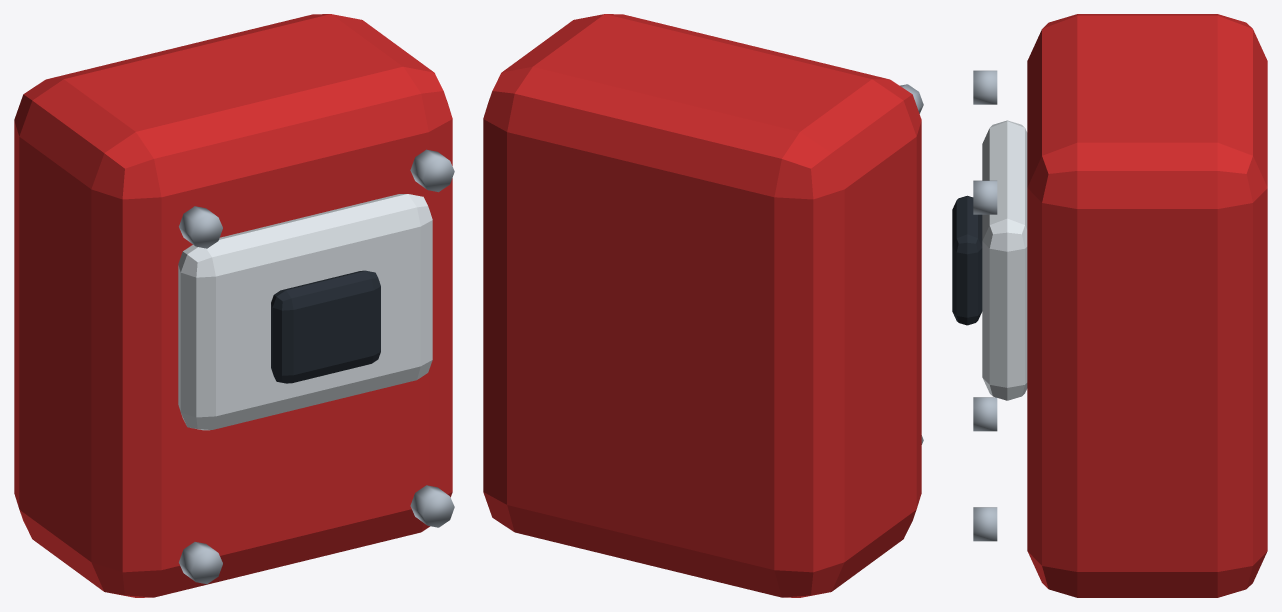
File: manual.glb
The picture shows the model from 3 angles, left to right: view 1: azimuth 30°, elevation 25°; view 2: azimuth 150°, elevation 25°; view 3: azimuth 270°, elevation 25°; orthographic projection. The views are drawn at different scales.
Parts seen in each view (by area): view 1: Manual alarm enclosure, Break glass, Press point, Captive screw; view 2: Manual alarm enclosure; view 3: Manual alarm enclosure, Break glass, Press point, Captive screw.
Boxes of the visible parts, box(x1,y1,x2,y2) form: Manual alarm enclosure: box(14, 14, 452, 597); Break glass: box(178, 194, 432, 430); Press point: box(271, 270, 380, 383); Captive screw: box(179, 149, 454, 584); Manual alarm enclosure: box(483, 14, 921, 597); Manual alarm enclosure: box(1027, 14, 1267, 597); Break glass: box(982, 120, 1027, 400); Press point: box(952, 195, 982, 325); Captive screw: box(973, 70, 997, 541).
Bounding box in the file's own units: 0.2 × 0.25 × 0.1575.
